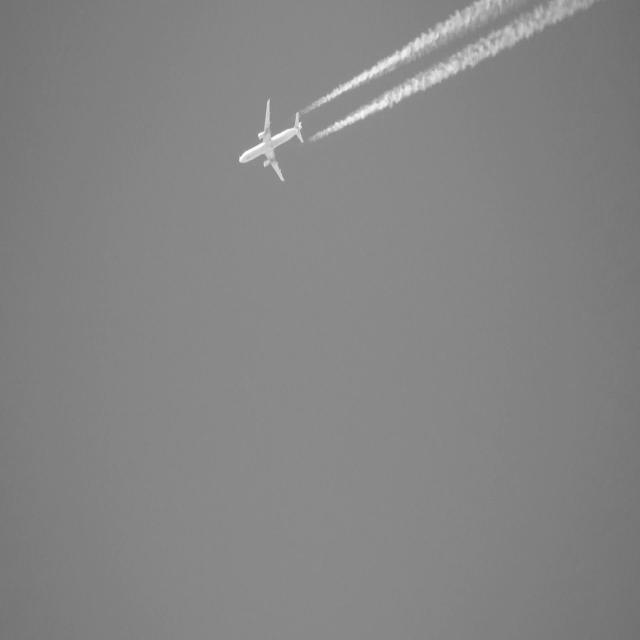aeroplane: (238, 95, 308, 188)
